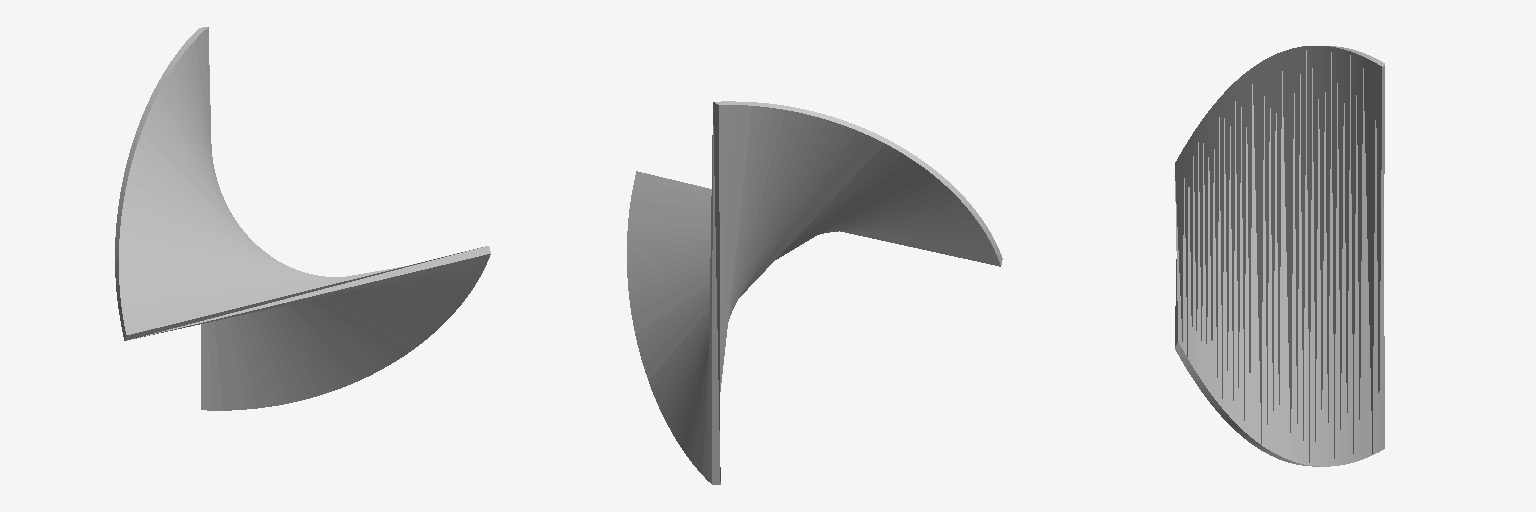
The model's file is spiral.obj.
3 views of the same model, side by side, from view 1: azimuth 30°, elevation 25°; view 2: azimuth 150°, elevation 25°; view 3: azimuth 270°, elevation 25° (orthographic).
Visible parts, largest first — view 1: Plane.001; view 2: Plane.001; view 3: Plane.001.
Part boxes in pixels (x1,y1,x2,y2): Plane.001: (115, 27, 490, 410); Plane.001: (627, 101, 1002, 484); Plane.001: (1175, 46, 1384, 466).
Size of the model in its own units: 3.89 by 3.89 by 1.95.